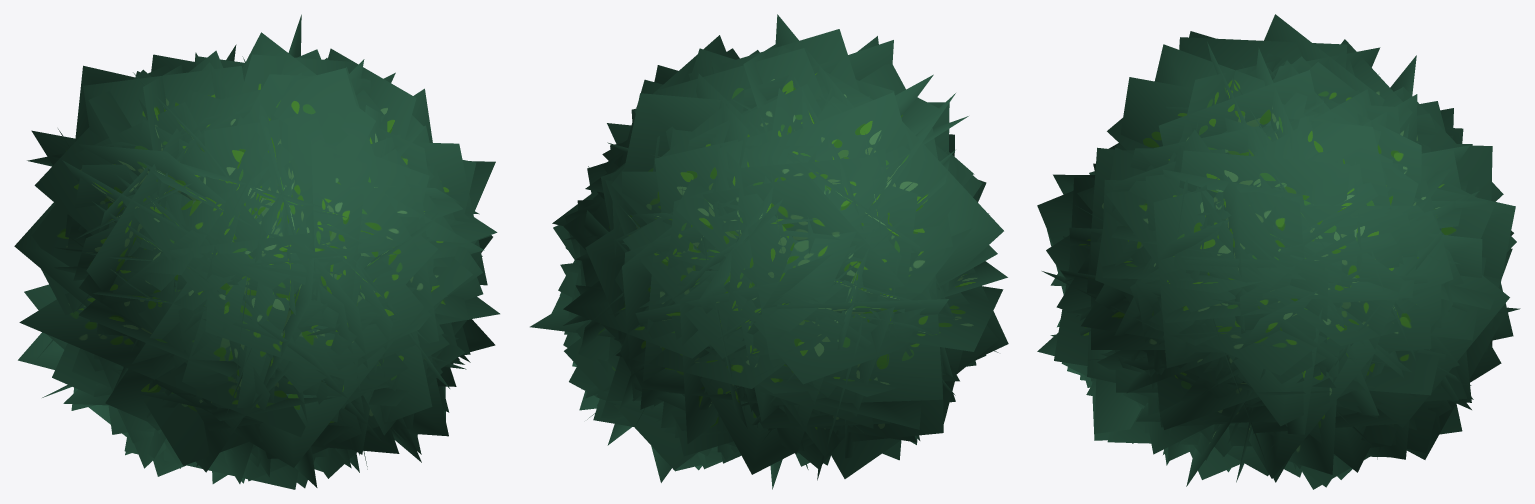
The model's file is Bush1.fbx.
3 renders of one model, left to right at view 1: azimuth 30°, elevation 25°; view 2: azimuth 150°, elevation 25°; view 3: azimuth 270°, elevation 25°, orthographic. The views are drawn at different scales.
Parts seen in each view (by area): view 1: SM_bush1; view 2: SM_bush1; view 3: SM_bush1.
Part boxes in pixels (x1,y1,x2,y2): SM_bush1: (14,14,499,489); SM_bush1: (530,14,1008,489); SM_bush1: (1037,14,1520,489).
Size of the model in its own units: 287 by 264 by 286.
